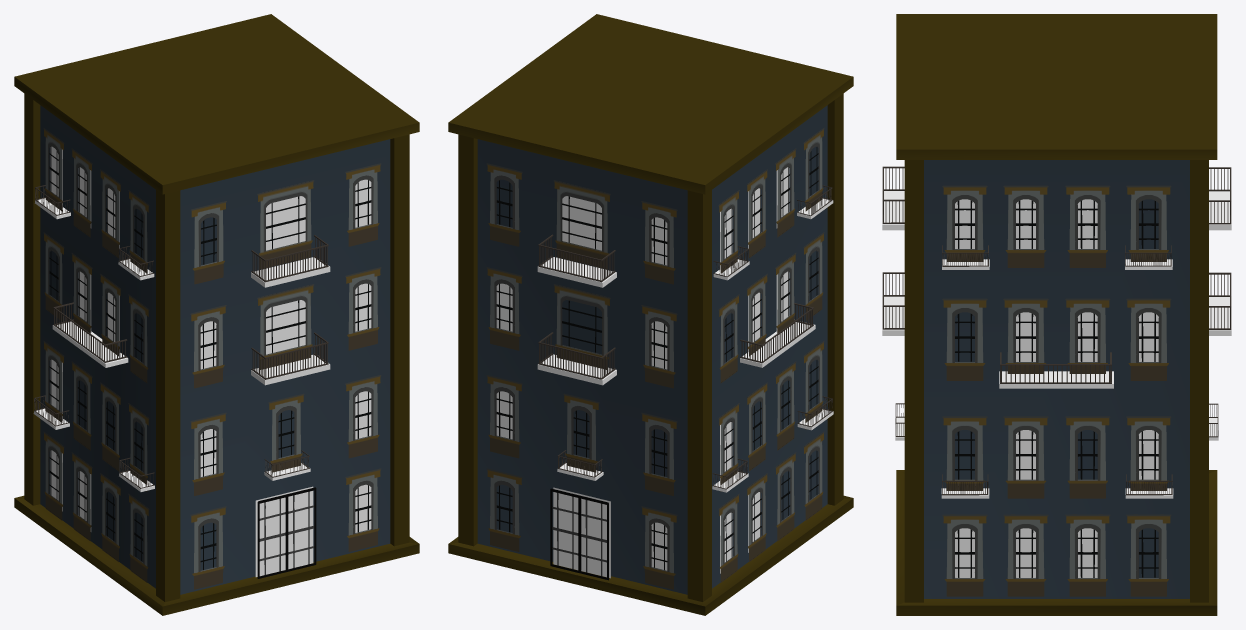
Rendered from Building(1).fbx.
3 views of the same model, side by side, from view 1: azimuth 30°, elevation 25°; view 2: azimuth 150°, elevation 25°; view 3: azimuth 270°, elevation 25° (orthographic). The views are drawn at different scales.
Parts seen in each view (by area): view 1: Building(1); view 2: Building(1); view 3: Building(1).
Part boxes in pixels (box(x1,y1,x2,y2)): Building(1): box(14, 14, 419, 615); Building(1): box(448, 14, 853, 615); Building(1): box(882, 14, 1231, 615).
Size of the model in its own units: 6.93 by 10.28 by 6.98.
